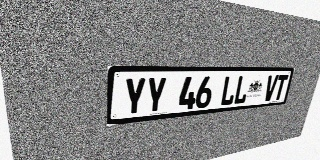4: (178, 76, 198, 111)
6: (194, 76, 214, 109)
L: (219, 76, 238, 106), (233, 75, 251, 105)
T: (273, 75, 288, 100)
V: (262, 75, 279, 101)
Y: (123, 77, 146, 116), (145, 77, 167, 114)
